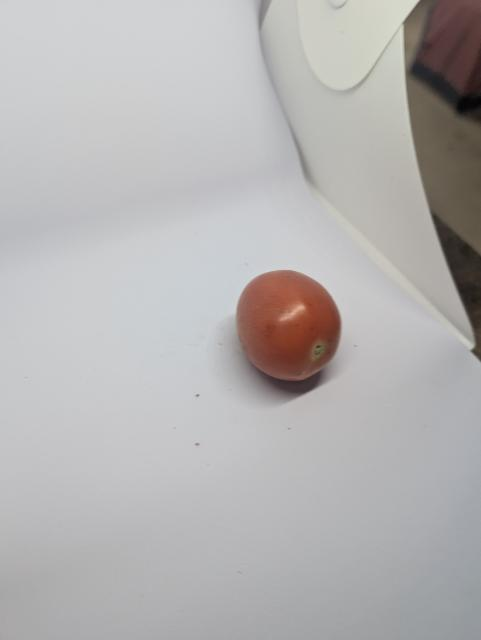red: (229, 264, 347, 387)
